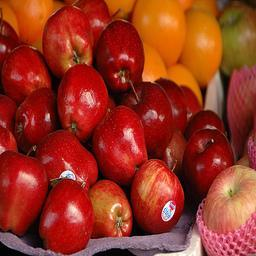apple: (203, 166, 255, 253), (93, 104, 147, 184), (1, 147, 48, 235), (117, 82, 172, 157), (39, 178, 93, 254), (129, 159, 184, 233), (93, 19, 146, 95), (33, 129, 98, 190), (41, 6, 94, 80), (179, 129, 235, 199), (57, 64, 107, 137), (2, 45, 51, 105), (86, 178, 133, 239), (13, 86, 58, 147)
